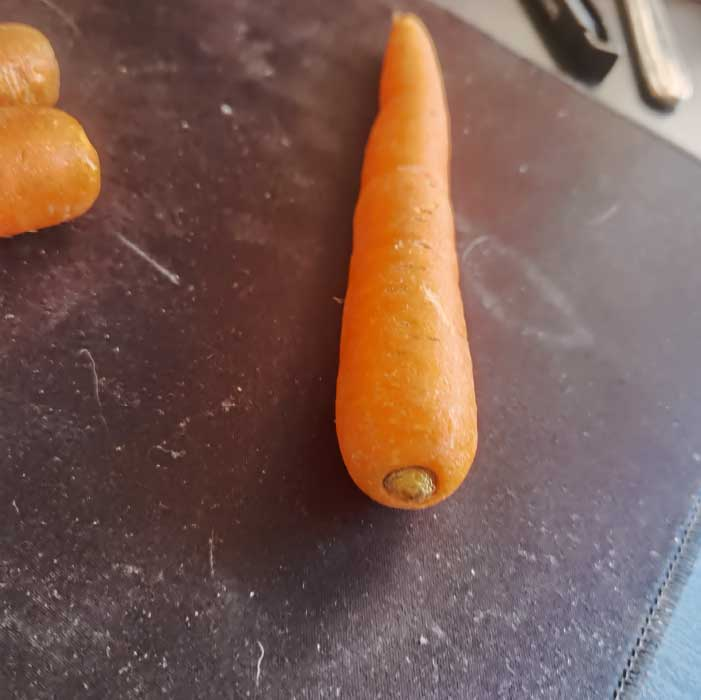Karotte: (334, 11, 477, 510)
